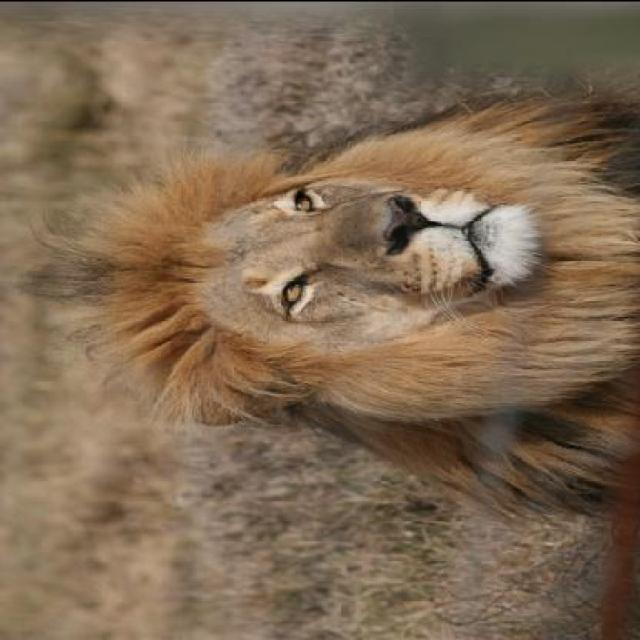Lion: (17, 37, 638, 545)
